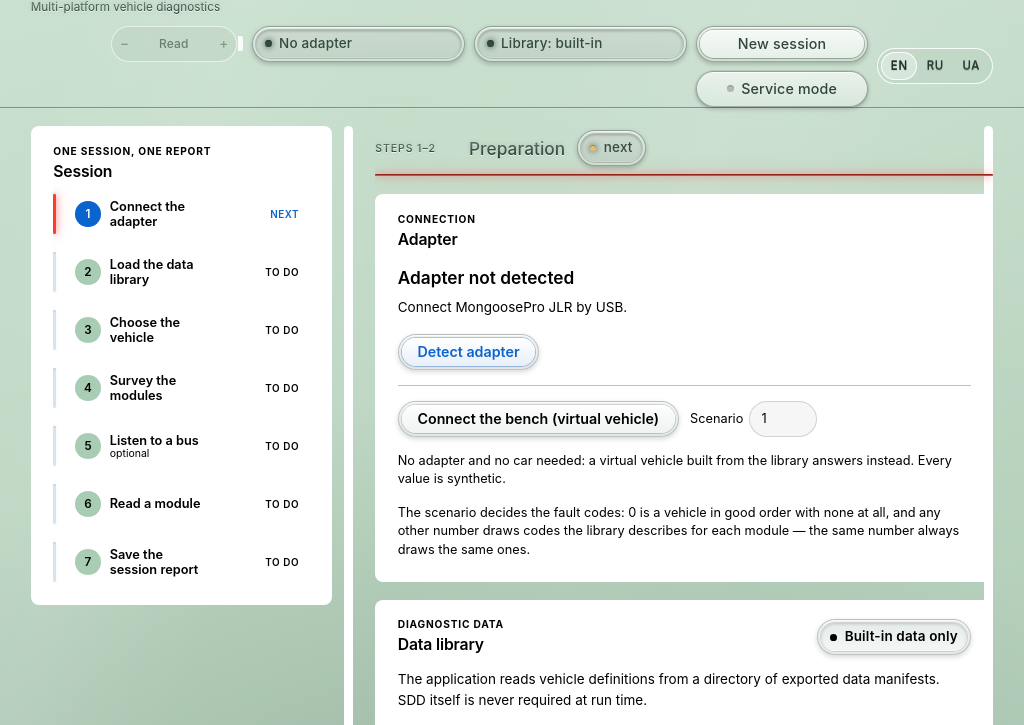
Test: interface language › switches the whole interface from the header and remembers the choice
Click the button with aria-label "Українська". click: (971, 66)
box: [953,52,989,80]
(page scrolled)
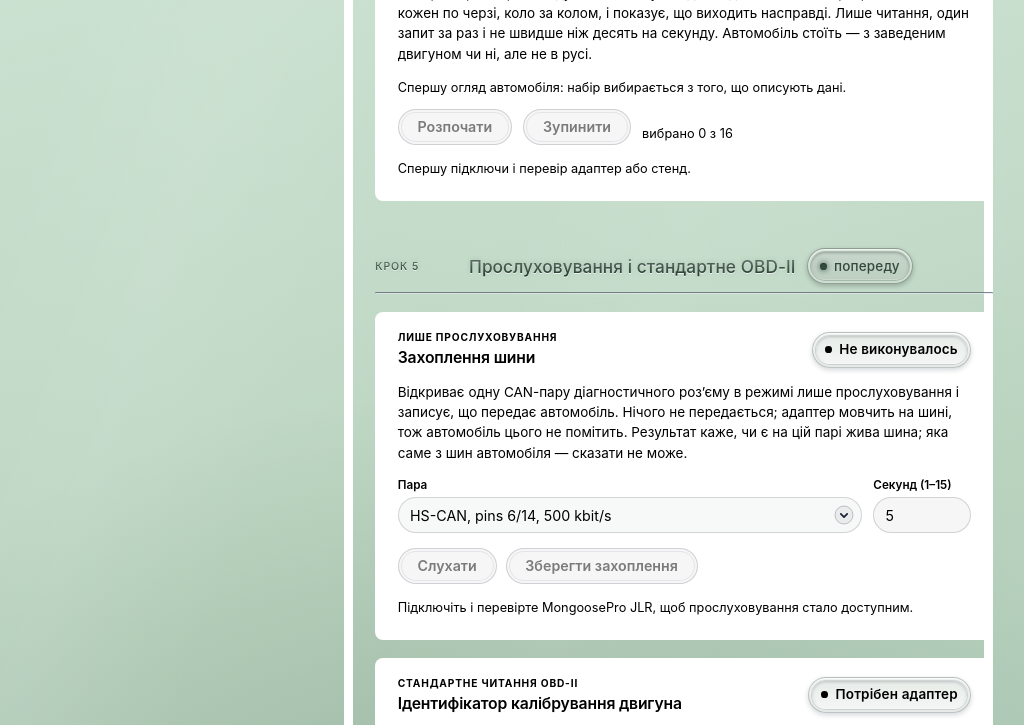
Now the heading "Захоплення шини" is shown, box [398,348,557,368]
